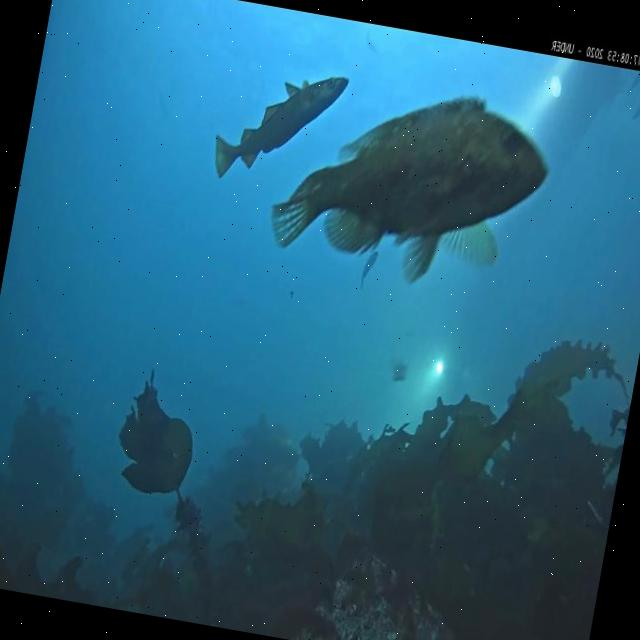fish: (262, 62, 562, 309), (209, 55, 350, 198), (360, 250, 379, 290), (632, 82, 640, 122), (628, 70, 640, 92)
